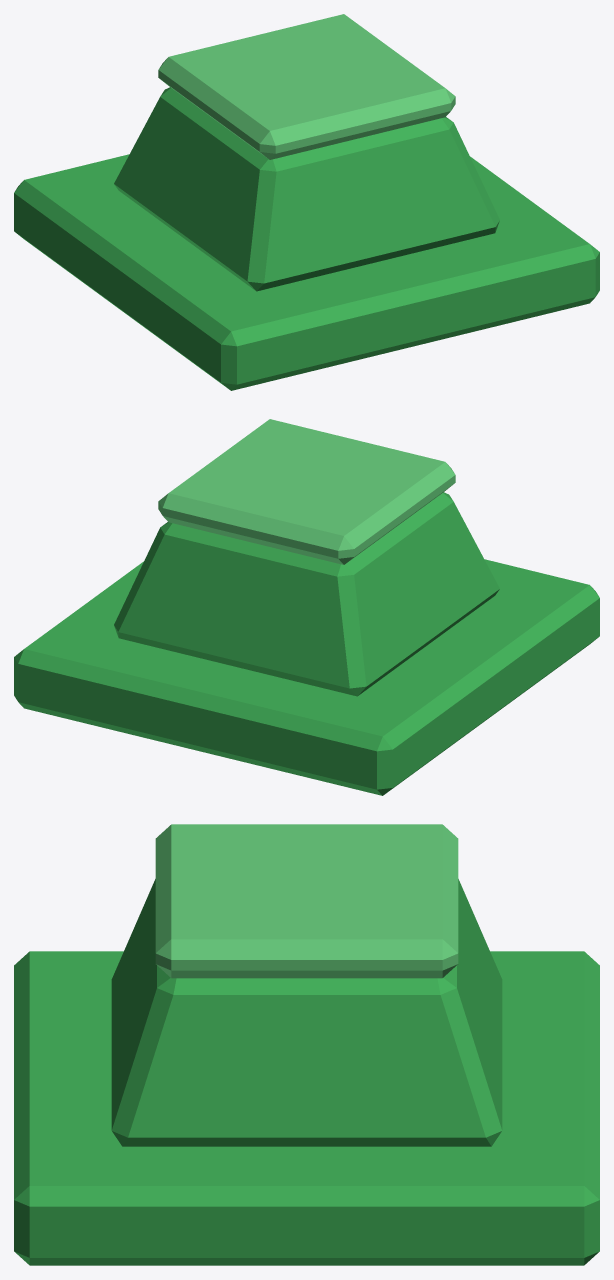
The model's file is block_roof.glb.
3 renders of one model, top to bottom at view 1: azimuth 30°, elevation 25°; view 2: azimuth 150°, elevation 25°; view 3: azimuth 270°, elevation 25°, orthographic. The views are drawn at different scales.
Parts seen in each view (by area): view 1: block_roof; view 2: block_roof; view 3: block_roof.
Part boxes in pixels (bbox=[...]): block_roof: bbox=[14, 14, 599, 390]; block_roof: bbox=[14, 419, 599, 795]; block_roof: bbox=[14, 824, 599, 1265].
Size of the model in its own units: 0.3 by 0.1505 by 0.3.
